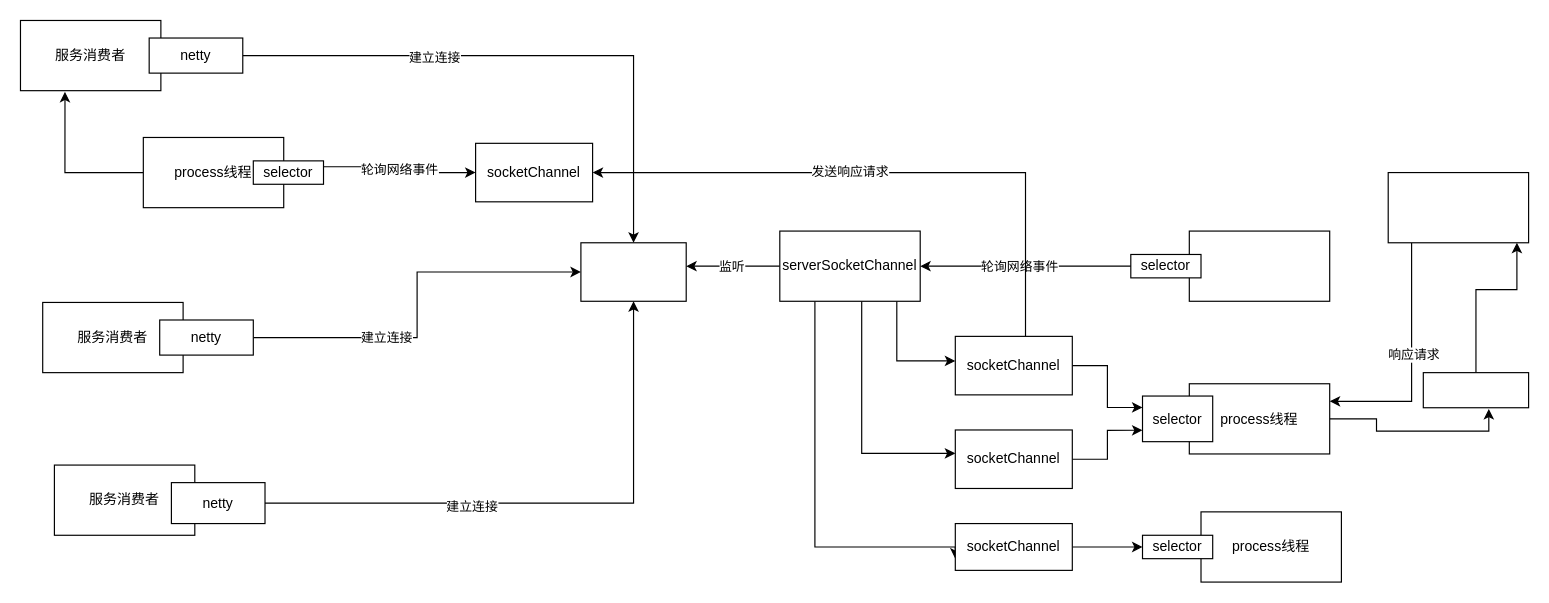
Some shapes in this 1549 by 603 pixel diagram are drawn without their labels. Here are the shapes that lost their labels. From the top down, the centre of each, then its label:
At (1458,207): "服务提供者".
At (633,271): "端口".
At (1259,265): "accept线程".
At (1475,389): "解析请求".
